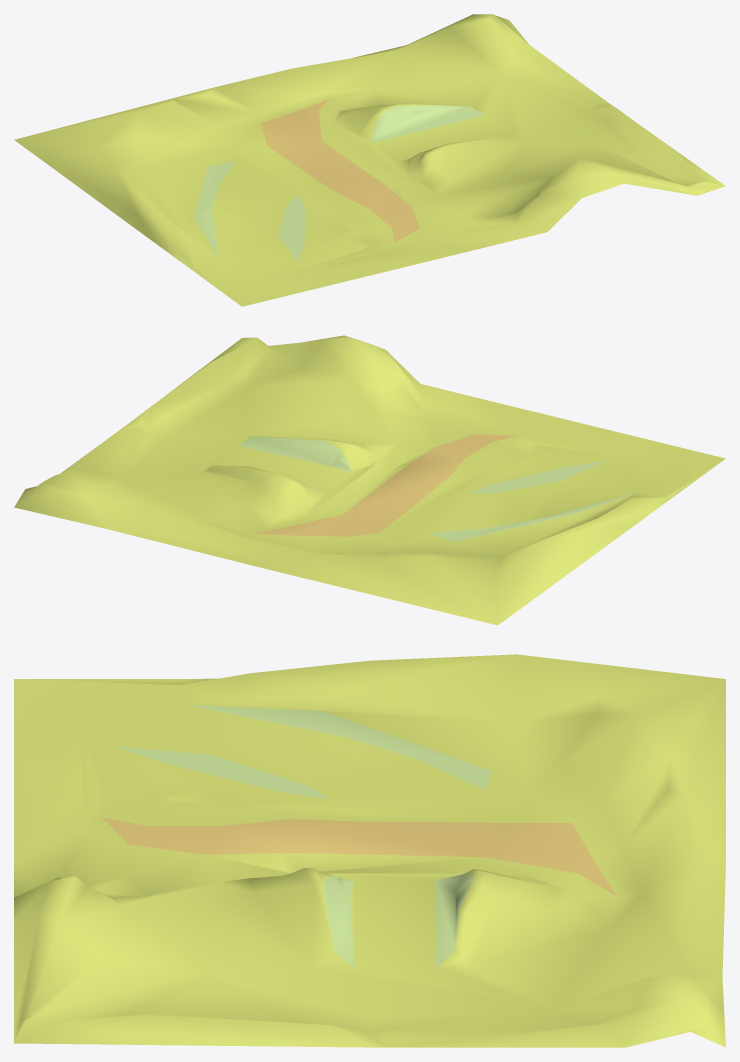
File: groud4.fbx
The picture shows the model from 3 angles, top to bottom: view 1: azimuth 30°, elevation 25°; view 2: azimuth 150°, elevation 25°; view 3: azimuth 270°, elevation 25°; orthographic projection. The views are drawn at different scales.
Visible parts, largest first — view 1: terraun; view 2: terraun; view 3: terraun.
Part boxes in pixels (x1,y1,x2,y2): terraun: (14,14,725,306); terraun: (14,335,725,625); terraun: (14,654,725,1047).
Size of the model in its own units: 82785 by 8957 by 67601.
